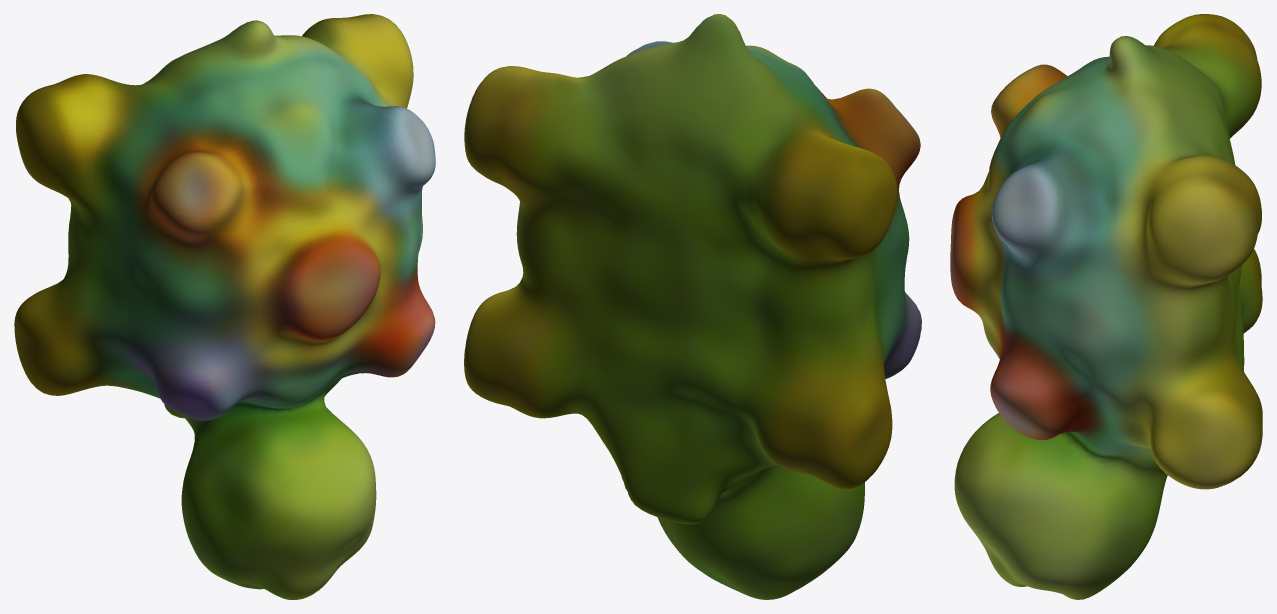
File: turtle.glb
The picture shows the model from 3 angles, left to right: view 1: azimuth 30°, elevation 25°; view 2: azimuth 150°, elevation 25°; view 3: azimuth 270°, elevation 25°; orthographic projection. The views are drawn at different scales.
Size of the model in its own units: 0.7205 by 0.9987 by 0.5067.
